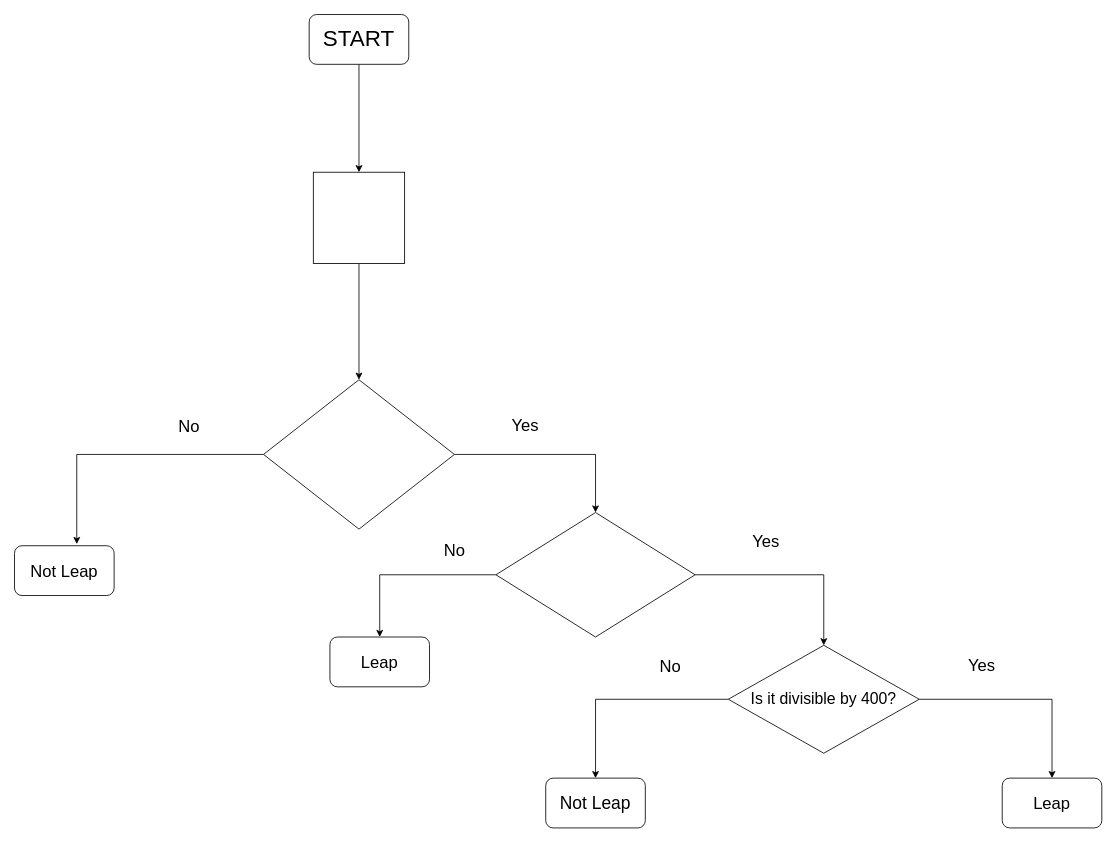
This 1116x842 diagram has some shape labels left out. Each missing label, with the centre of its shape:
"Enter the Year" belongs at point (358, 217).
"Is it clearly divisible by 4?" belongs at point (358, 454).
"Is it divisible by 100" belongs at point (595, 574).
